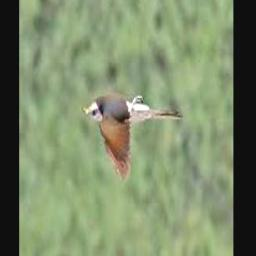Cuckoo: (83, 95, 182, 182)
